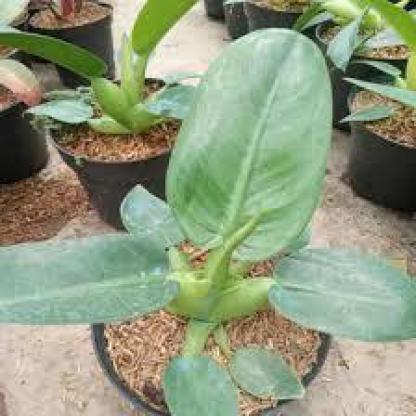Kenanga: (70, 69, 247, 306)
